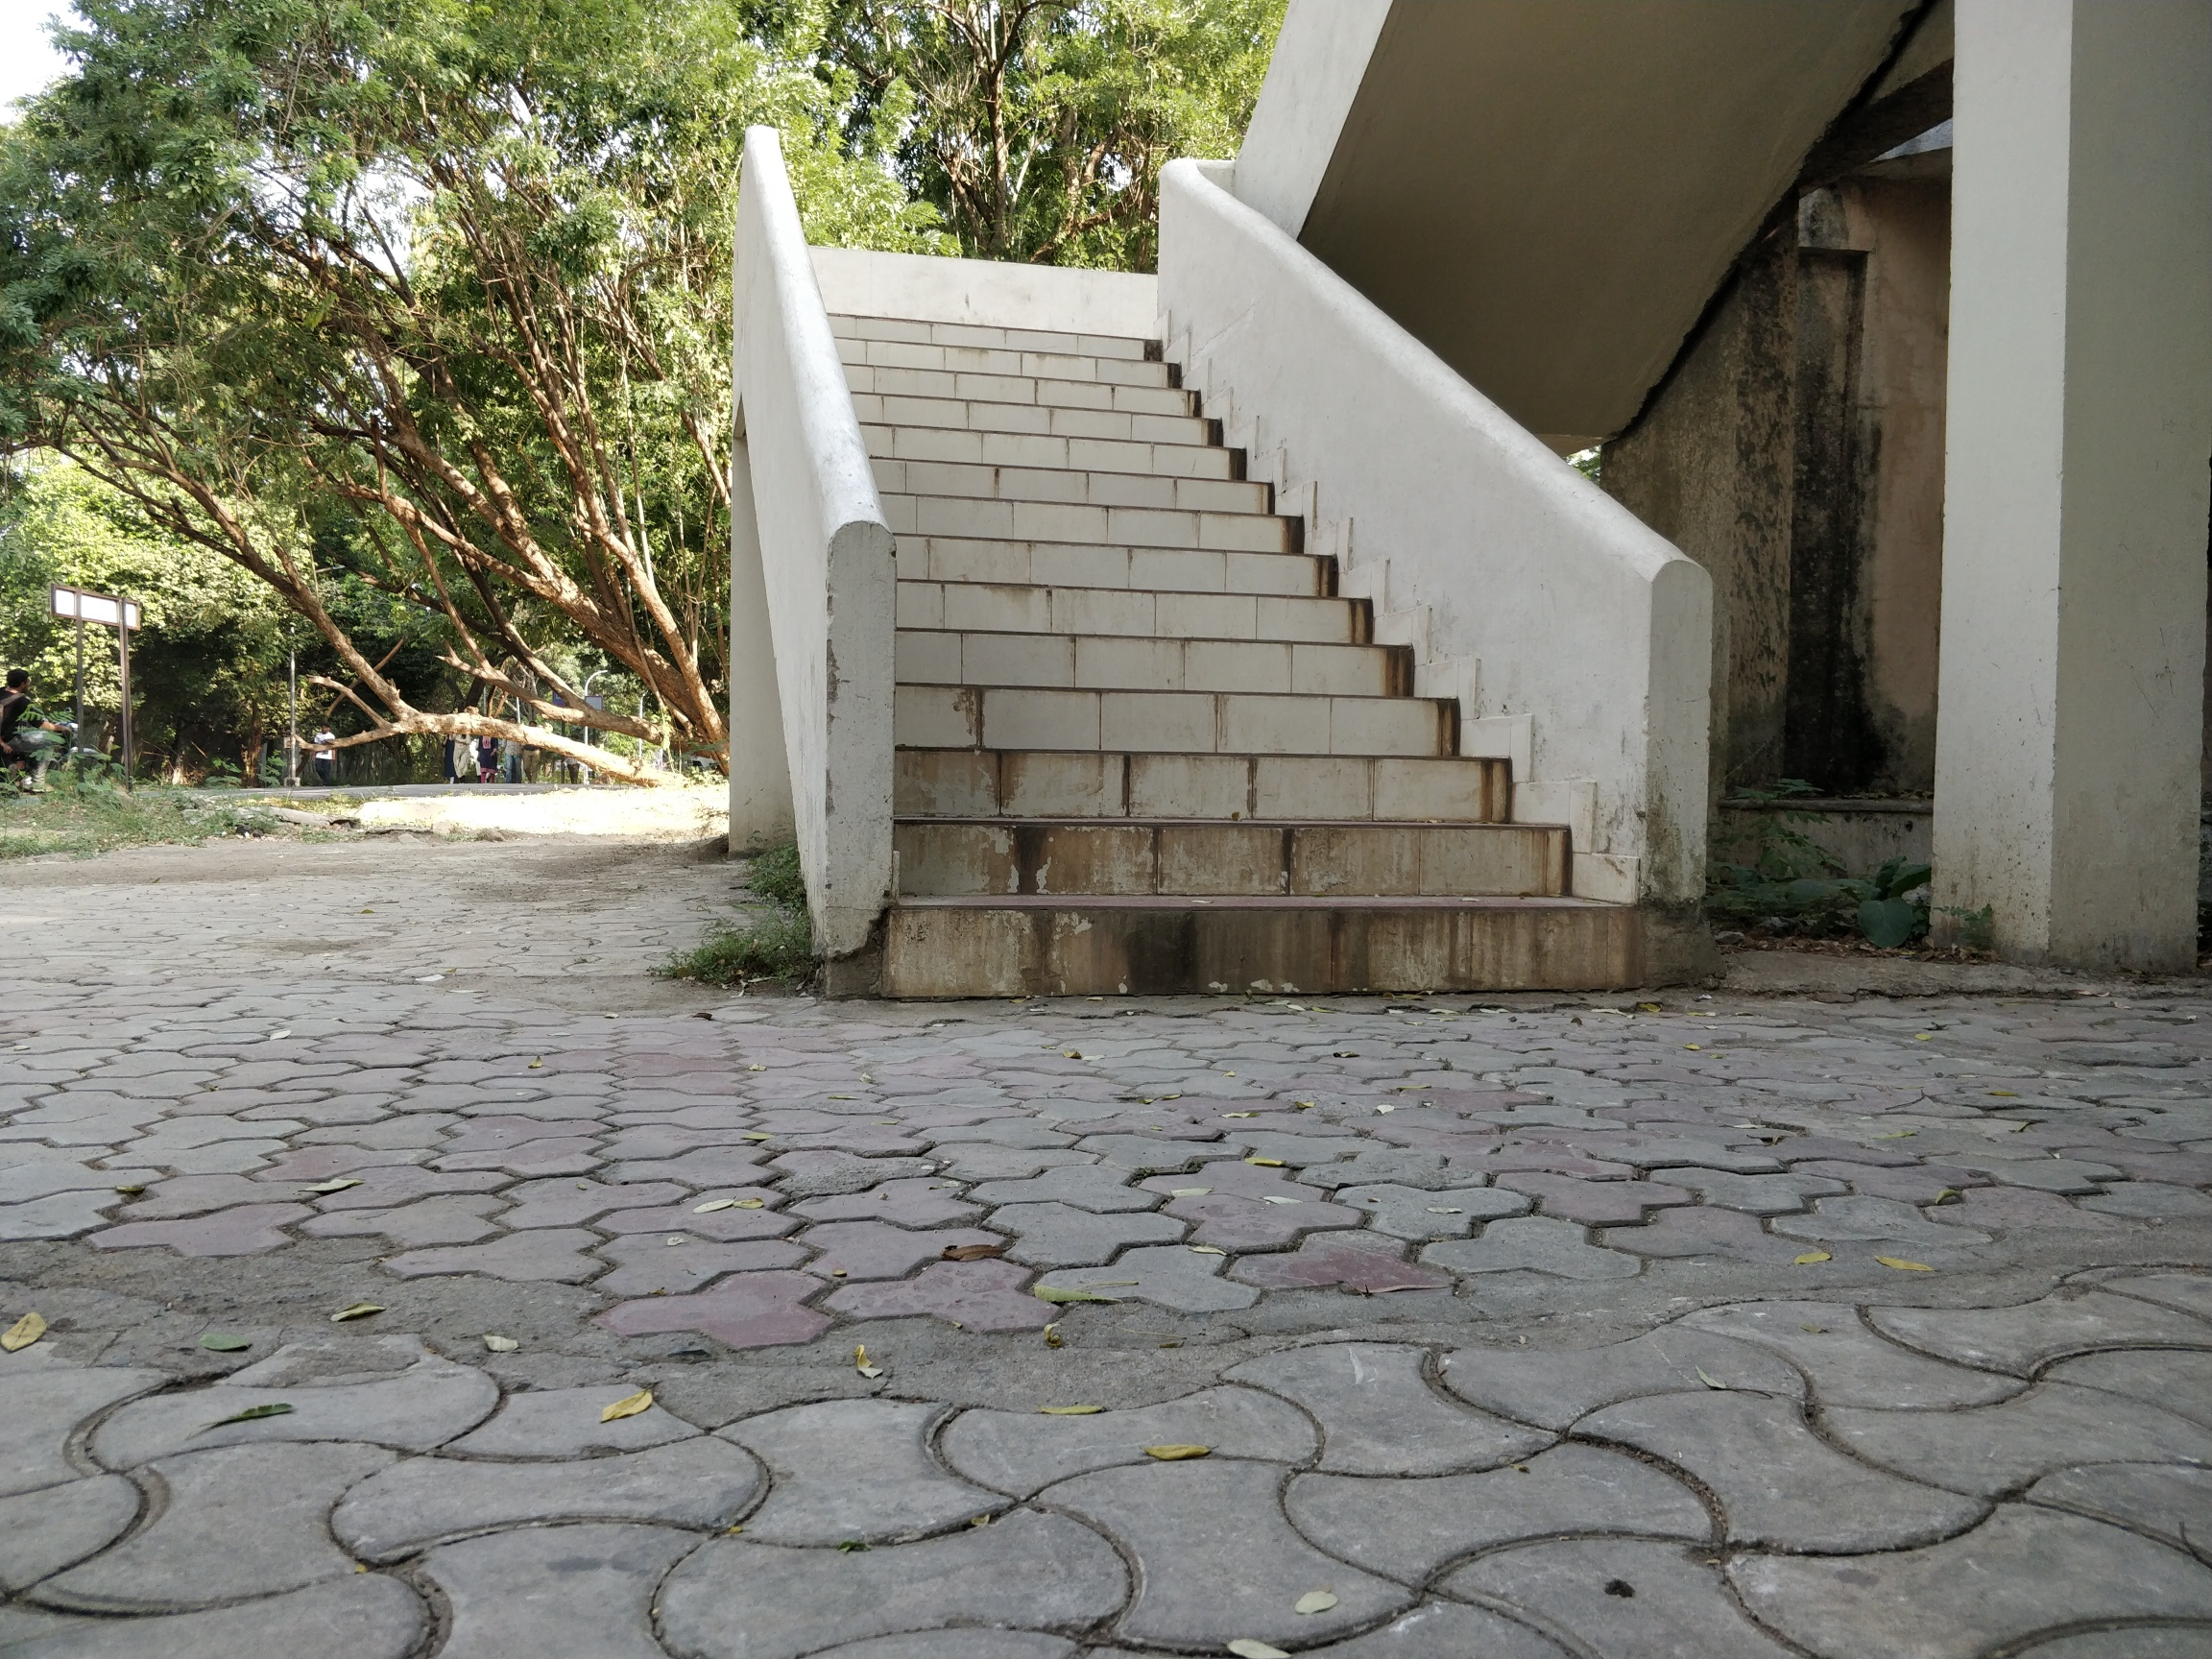stairs_up: (796, 303, 1669, 1009)
